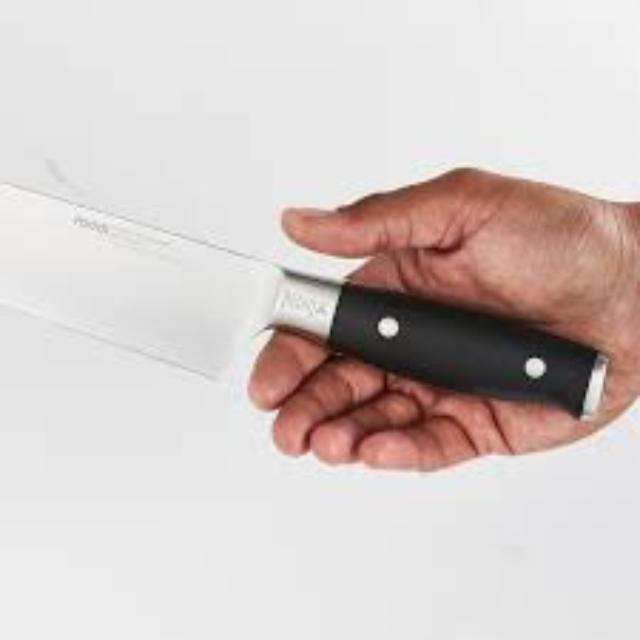knife: (258, 90, 640, 518), (1, 165, 612, 421)
